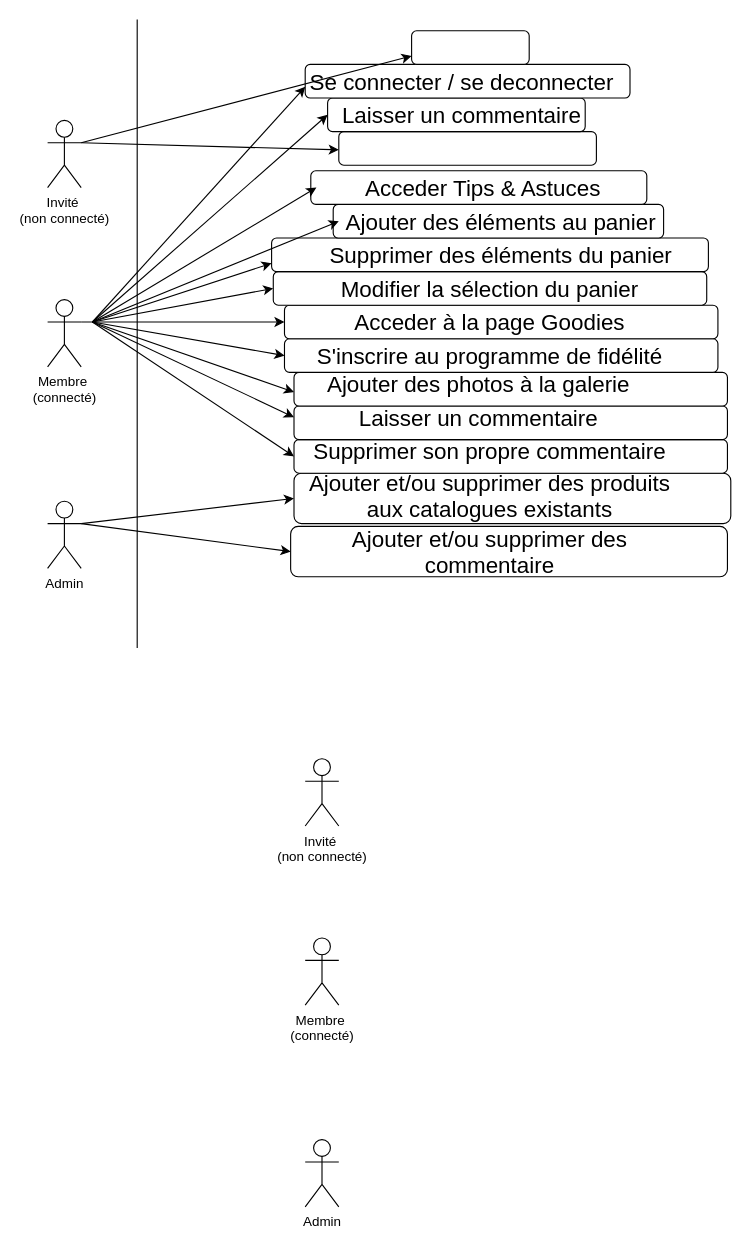
The diagram is 750 pixels wide and 1250 high, and some of its shapes have lost their labels. Here are the shapes that lost their labels. From the top down, the box of each, then its label:
(410, 30, 529, 64): S'inscrire
(338, 130, 596, 165): Acceder à la galerie
